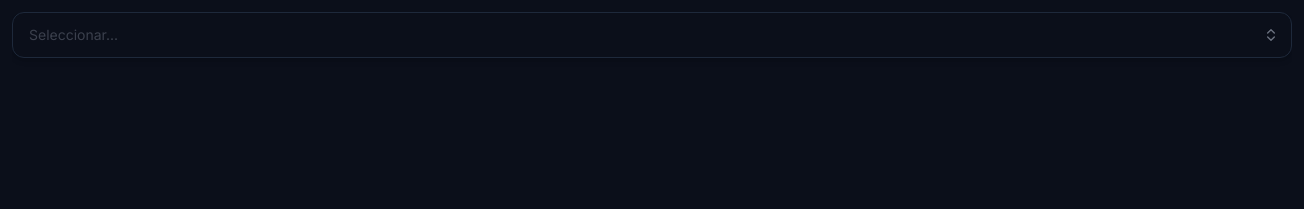
Test case: SmartCombobox › abre dropdown al hacer click
This screenshot has width=1304, height=209.
Click the button.
click(1277, 35)  # box [1263,13,1291,57]
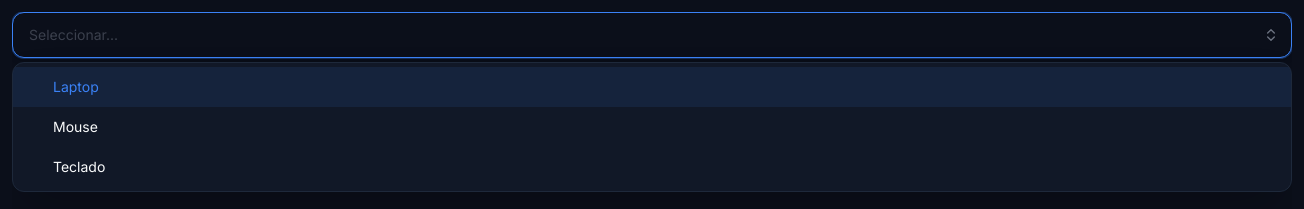
Expected: the text "Mouse" is shown, [53,118,98,135]
Expected: the text "Teclado" is shown, [53,158,105,175]
